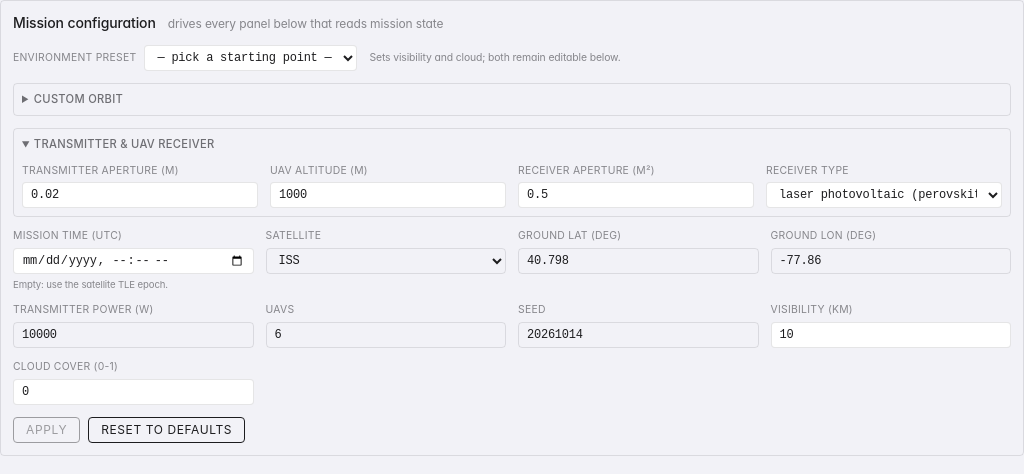
Test case: MissionConfigBar › rejects an out-of-range latitude and disables Apply
Replace the text in the number field named "ground latitude" with "200" at (638, 261), box [518,248,758,274]
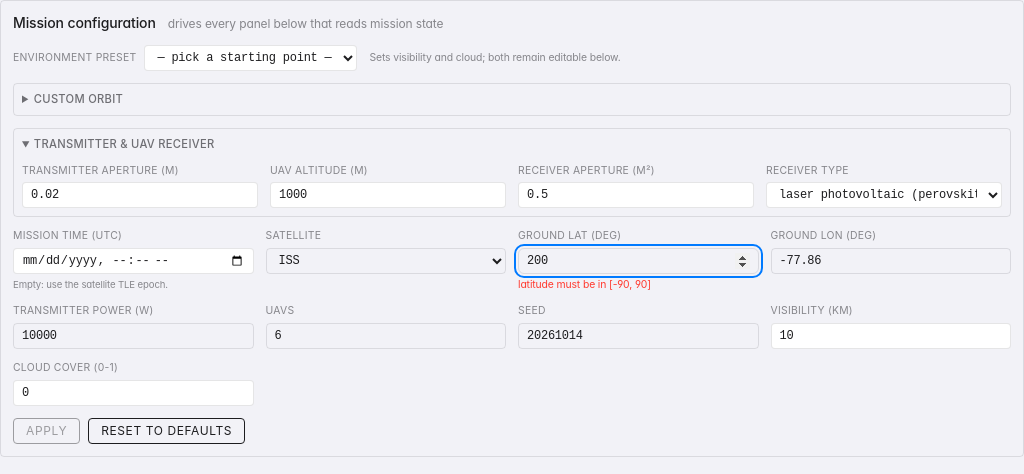
Expected: the text "latitude must be in [-90, 90]" is shown, [518,278,651,291]
Expected: the button with test id "mission-apply" is disabled, [13,418,80,444]
